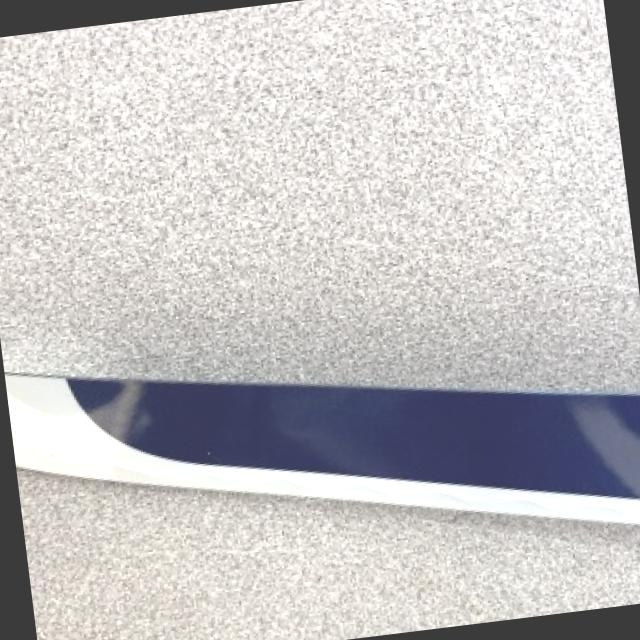healthy: (0, 0, 640, 389), (18, 467, 640, 640)
